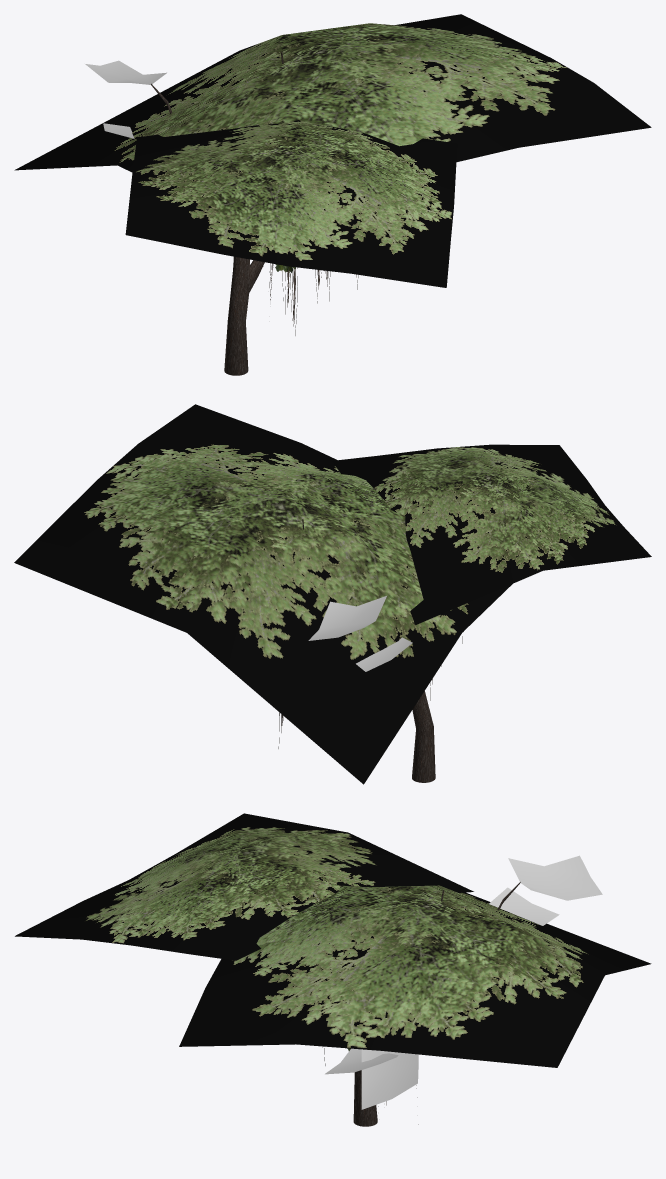
Rendered from MOD_Tree_02_plants.fbx.
The picture shows the model from 3 angles, top to bottom: view 1: azimuth 30°, elevation 25°; view 2: azimuth 150°, elevation 25°; view 3: azimuth 270°, elevation 25°; orthographic projection. The views are drawn at different scales.
Parts seen in each view (by area): view 1: Tree_Canopy, Tree_Canopy1, Tree_MOD, Tree_Branch_MOD83; view 2: Tree_Canopy, Tree_Canopy1, Tree_Branch_MOD83, Tree_MOD, Tree_Branch_MOD82; view 3: Tree_Canopy, Tree_Canopy1, Tree_Branch_MOD83, Tree_Branch_MOD70, Tree_Branch_MOD82, Tree_MOD, Tree_Branch_MOD71.
Boxes of the visible parts, x1=… form: Tree_Canopy: x1=14, y1=14, x2=651, y2=172; Tree_Canopy1: x1=125, y1=120, x2=457, y2=287; Tree_MOD: x1=151, y1=52, x2=283, y2=375; Tree_Branch_MOD83: x1=85, y1=60, x2=166, y2=84; Tree_Canopy: x1=14, y1=404, x2=512, y2=784; Tree_Canopy1: x1=332, y1=444, x2=651, y2=625; Tree_Branch_MOD83: x1=308, y1=596, x2=386, y2=640; Tree_MOD: x1=302, y1=519, x2=435, y2=782; Tree_Branch_MOD82: x1=356, y1=637, x2=412, y2=671; Tree_Canopy: x1=179, y1=885, x2=651, y2=1067; Tree_Canopy1: x1=15, y1=813, x2=473, y2=960; Tree_Branch_MOD83: x1=508, y1=855, x2=602, y2=900; Tree_Branch_MOD70: x1=361, y1=1049, x2=418, y2=1109; Tree_Branch_MOD82: x1=489, y1=887, x2=559, y2=925; Tree_MOD: x1=353, y1=882, x2=520, y2=1126; Tree_Branch_MOD71: x1=325, y1=1048, x2=398, y2=1074.
Bounding box in the file's own units: 3903 × 2059 × 4314.
